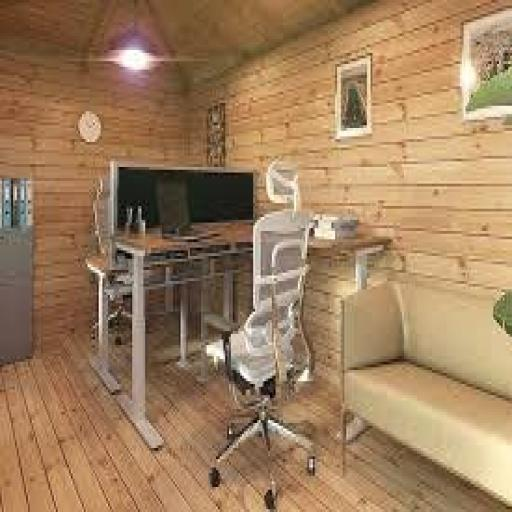chair: (208, 154, 318, 510)
